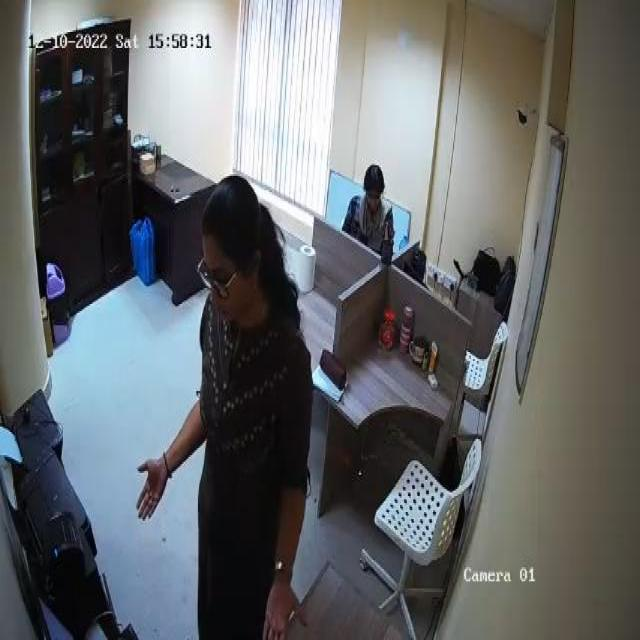bare_hand: (259, 572, 308, 638), (132, 453, 164, 523)
